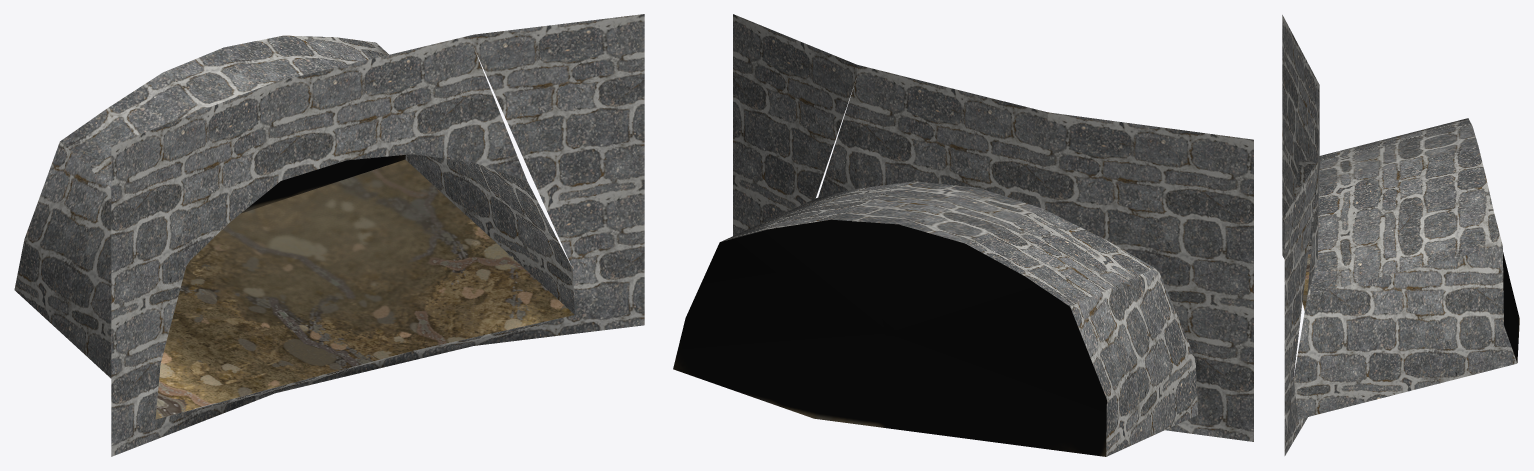
The model's file is sewer.glb.
The picture shows the model from 3 angles, left to right: view 1: azimuth 30°, elevation 25°; view 2: azimuth 150°, elevation 25°; view 3: azimuth 270°, elevation 25°; orthographic projection. The views are drawn at different scales.
Parts seen in each view (by area): view 1: Object_2; view 2: Object_2; view 3: Object_2.
Part boxes in pixels (left/top/right/bottom): Object_2: left=14, top=14, right=644, bottom=456; Object_2: left=673, top=14, right=1253, bottom=456; Object_2: left=1282, top=15, right=1519, bottom=455.
Bounding box in the file's own units: 97.58 × 54.28 × 48.52.
1 material, 1 textured.
